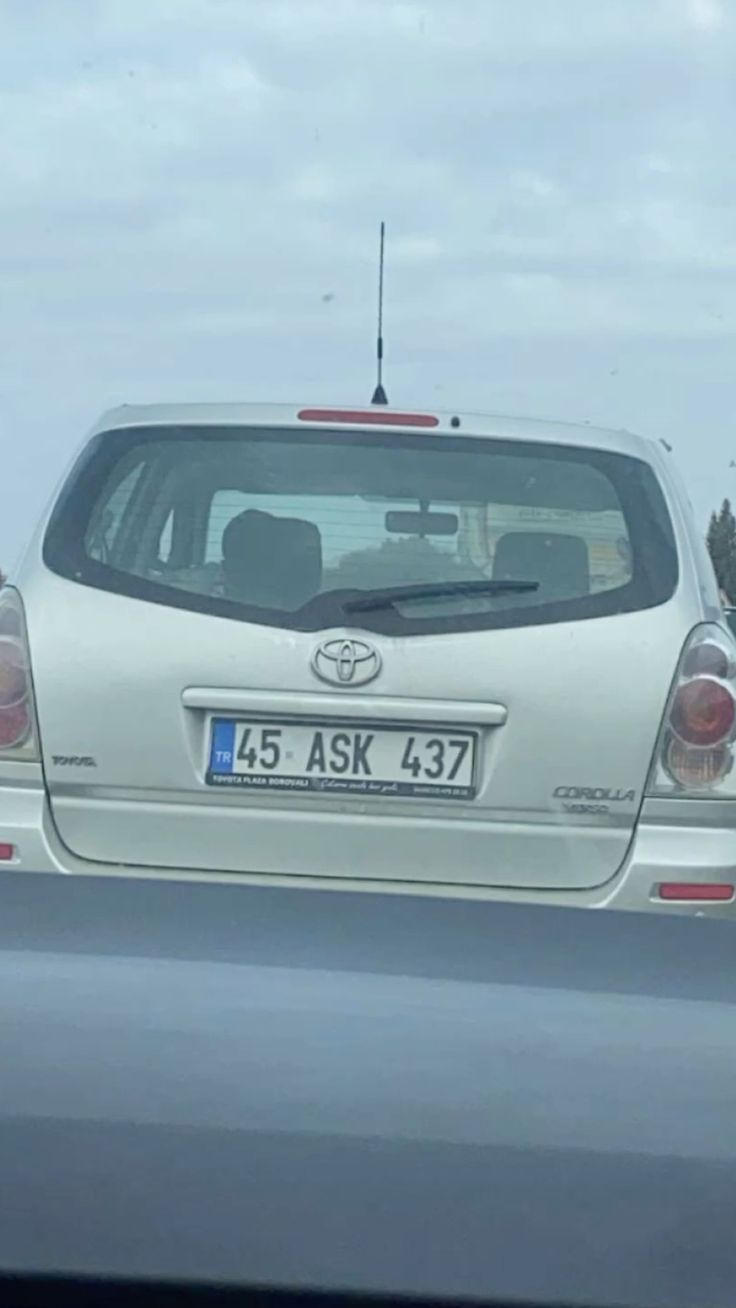plate: (197, 721, 497, 794)
